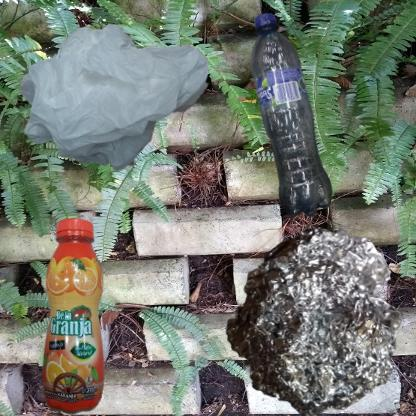aluminio: (213, 213, 416, 416)
bolsa: (10, 10, 229, 189)
botella: (213, 10, 384, 246), (10, 213, 164, 416)
